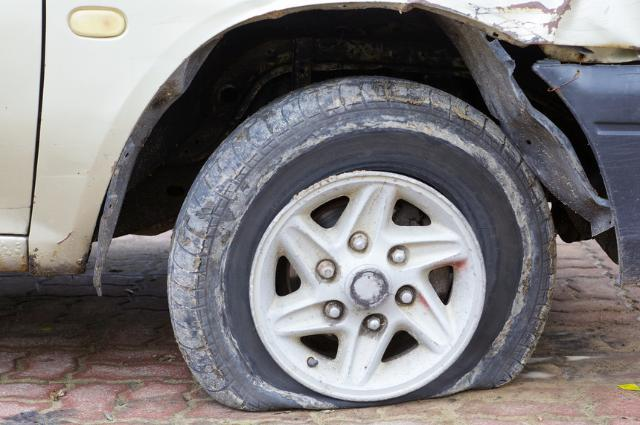Bumper: (531, 65, 640, 295)
Fender: (451, 0, 640, 60)
